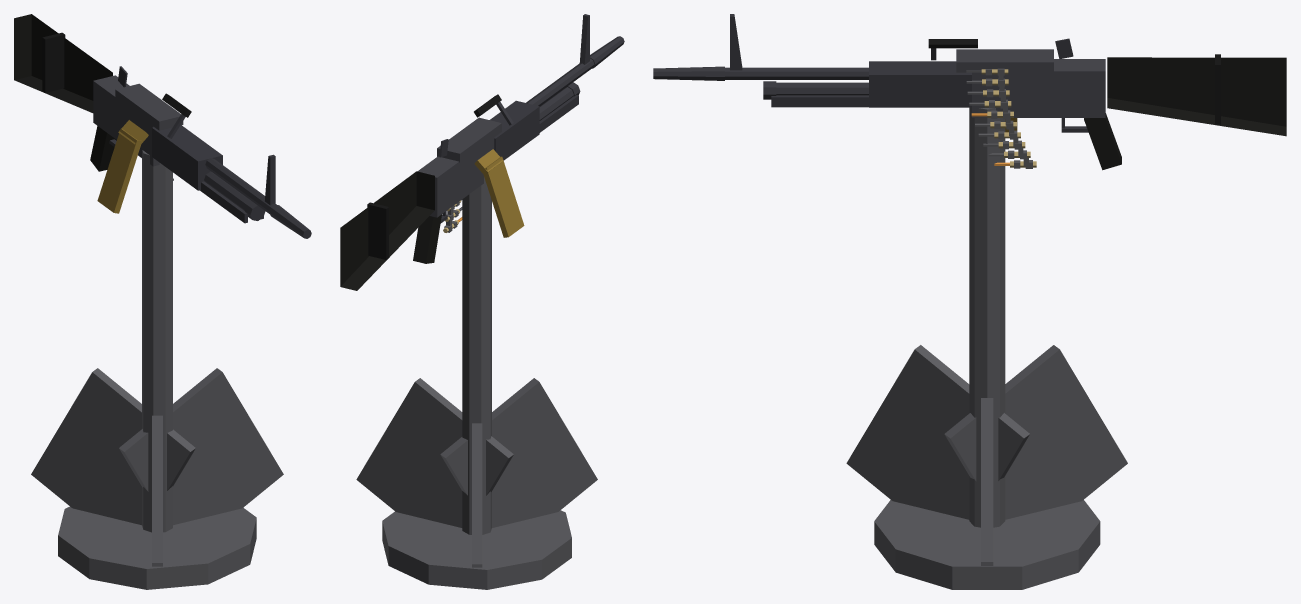
File: m60_pintle.glb
3 views of the same model, side by side, from view 1: azimuth 30°, elevation 25°; view 2: azimuth 150°, elevation 25°; view 3: azimuth 270°, elevation 25° (orthographic). The views are drawn at different scales.
Parts seen in each view (by area): view 1: m60_pintle, m60; view 2: m60_pintle, m60; view 3: m60_pintle, m60.
Part boxes in pixels (x1=…): m60_pintle: x1=31, y1=150, x2=283, y2=589; m60: x1=14, y1=14, x2=311, y2=238; m60_pintle: x1=356, y1=177, x2=597, y2=589; m60: x1=340, y1=14, x2=624, y2=290; m60_pintle: x1=846, y1=107, x2=1127, y2=589; m60: x1=653, y1=14, x2=1286, y2=170.
Size of the model in its own units: 0.5188 by 1.16 by 1.23.
